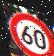Speed Limit -60-: (4, 5, 54, 56)
